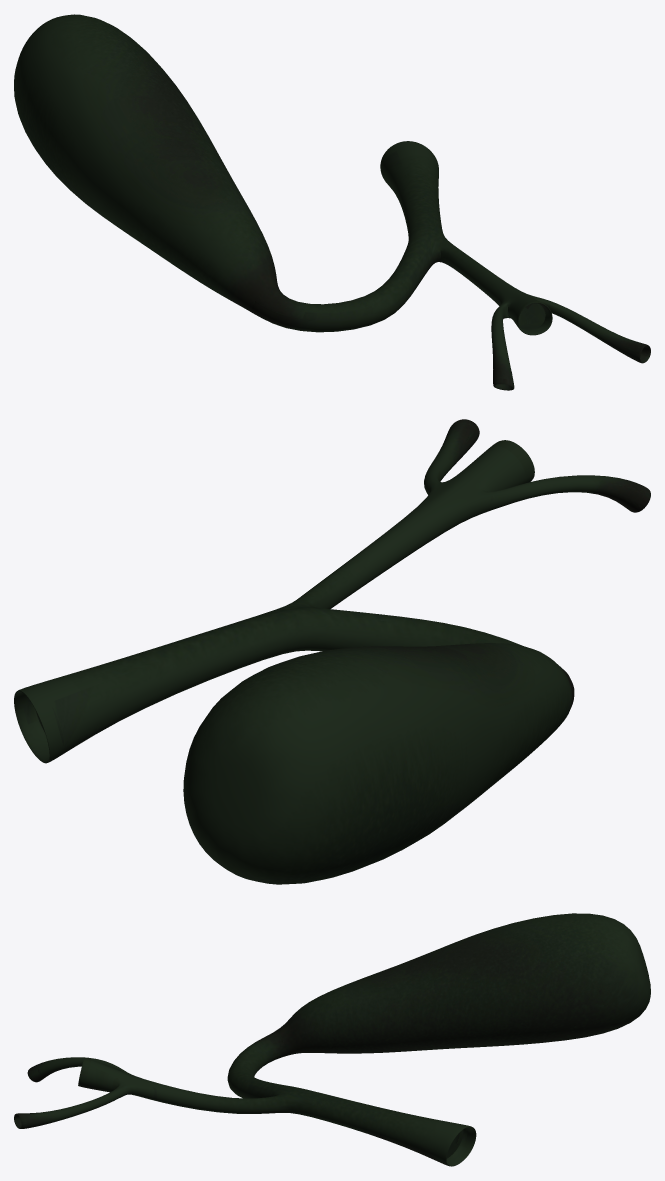
The model's file is gallBlader.obj.
The picture shows the model from 3 angles, top to bottom: view 1: azimuth 30°, elevation 25°; view 2: azimuth 150°, elevation 25°; view 3: azimuth 270°, elevation 25°; orthographic projection. The views are drawn at different scales.
Parts seen in each view (by area): view 1: GallBladder; view 2: GallBladder; view 3: GallBladder.
Part boxes in pixels (x1,y1,x2,y2): GallBladder: (14, 14, 650, 390); GallBladder: (14, 419, 650, 884); GallBladder: (14, 913, 650, 1166).
Size of the model in its own units: 0.9063 by 0.4449 by 1.78.
